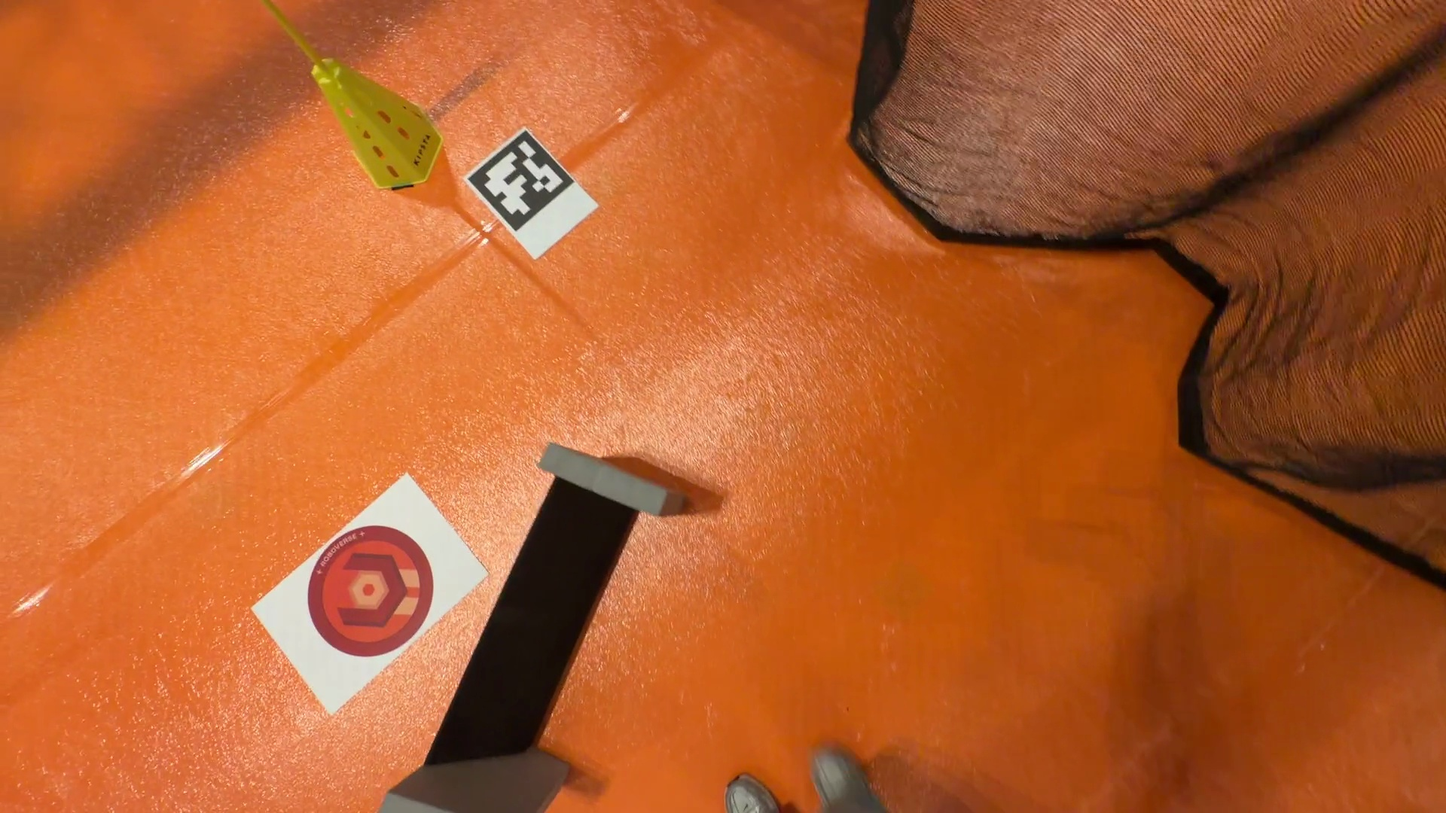landing_pad: (306, 526, 436, 658)
